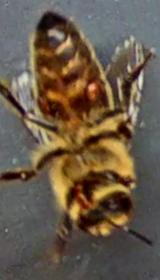varroa_mite: (73, 68, 112, 107)
